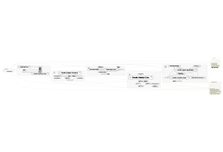

The page's visual inventory and layout, read from the dashboard file:
{"tool":"powerbi","page":{"name":"Revenue Dashboard","canvas":[1280,720],"ordinal":1},"visuals":[{"type":"actionButton","box":[0,0,100,40],"z":0},{"type":"clusteredColumnChart","title":"Revenue by Month","fields":{"Category":["View_OrderDetails (2).MonthName"],"Y":["Sum(View_OrderDetails (2).Price)"]},"box":[626.6,72.2,628.2,263.7],"z":1000},{"type":"barChart","title":"Revenue by Day","fields":{"Category":["View_OrderDetails (2).DayName"],"Y":["Sum(View_OrderDetails (2).Price)"]},"box":[10.2,406.3,575.7,299.7],"z":2000},{"type":"clusteredColumnChart","title":"Revenue by Year","fields":{"Category":["View_OrderDetails.Year Hierarchy.Year"],"Y":["Sum(View_OrderDetails.Price)"]},"box":[16.8,72.2,556,267.1],"z":3000},{"type":"lineChart","title":"Revenue by hours","fields":{"Category":["View_OrderDetails.OrderTime"],"Y":["Sum(View_OrderDetails.Price)"]},"box":[669,407,586,299],"z":4000}]}

Visuals, with their boxes on the page's 1280x720 design canvas (x1, y1, x2, y2). These are canvas units, not pixel positions in the 223x152 screenshot, which may show the page scaled, cropped or inside an application window:
actionButton: [0, 0, 100, 40]
"Revenue by Month" clusteredColumnChart: [627, 72, 1255, 336]
"Revenue by Day" barChart: [10, 406, 586, 706]
"Revenue by Year" clusteredColumnChart: [17, 72, 573, 339]
"Revenue by hours" lineChart: [669, 407, 1255, 706]
